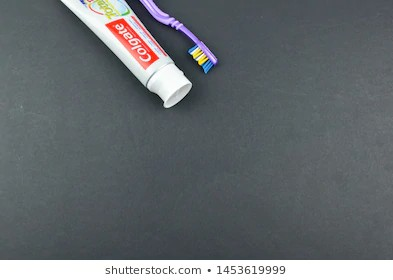colgate-total-150gm: (64, 1, 194, 108)
toothbrush: (143, 1, 224, 73)
